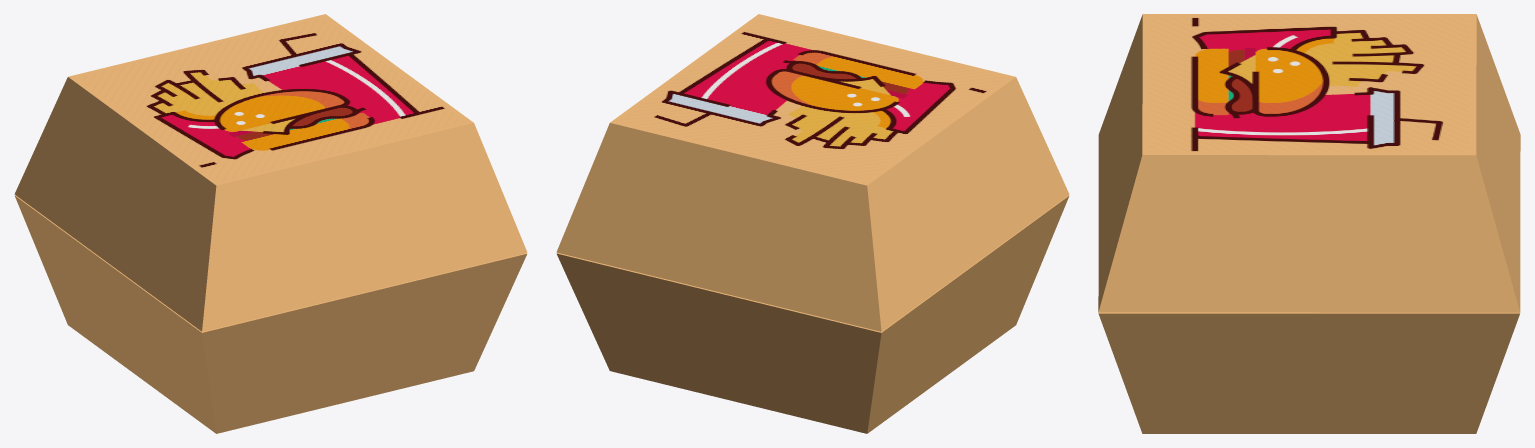
Rendered from burger box.fbx.
3 views of the same model, side by side, from view 1: azimuth 30°, elevation 25°; view 2: azimuth 150°, elevation 25°; view 3: azimuth 270°, elevation 25° (orthographic). The views are drawn at different scales.
Parts seen in each view (by area): view 1: Burger Box; view 2: Burger Box; view 3: Burger Box.
Boxes of the visible parts, left/top/right/bottom form: Burger Box: left=14, top=14, right=527, bottom=433; Burger Box: left=556, top=14, right=1069, bottom=433; Burger Box: left=1098, top=14, right=1520, bottom=433.
Size of the model in its own units: 0.446 by 0.325 by 0.446.
